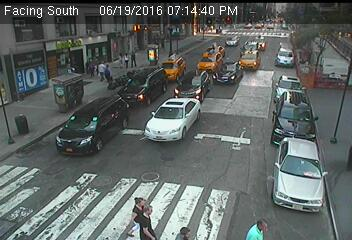neg: (327, 120, 345, 144), (169, 26, 181, 41), (14, 73, 25, 87), (199, 29, 208, 41)
pos: (138, 206, 162, 238), (127, 192, 146, 217), (252, 215, 269, 239), (180, 221, 193, 238), (95, 61, 108, 78), (84, 59, 96, 75), (104, 65, 115, 80), (128, 49, 138, 63), (114, 52, 123, 64), (121, 53, 130, 65)
